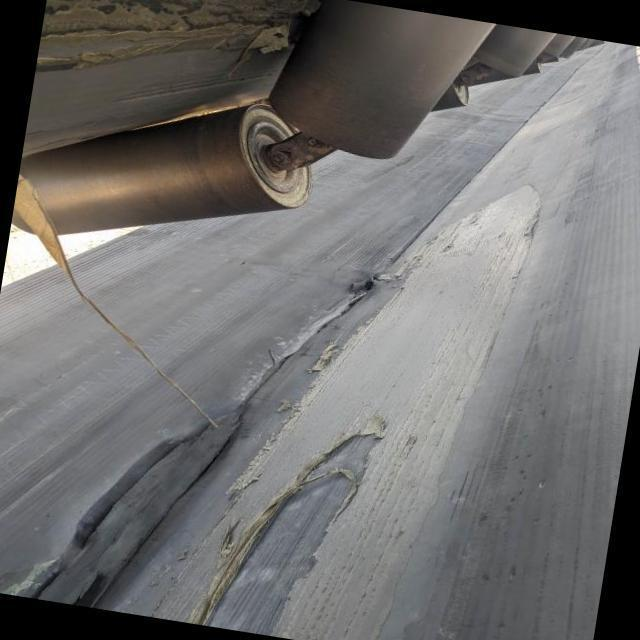Tear: (0, 263, 414, 611), (194, 420, 397, 638)
